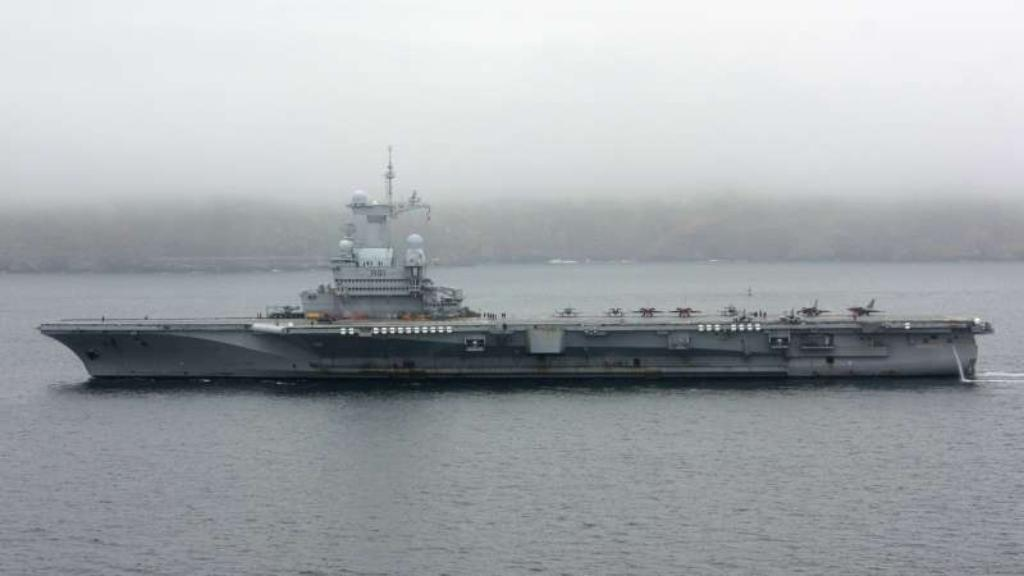Warship: (34, 145, 998, 389)
